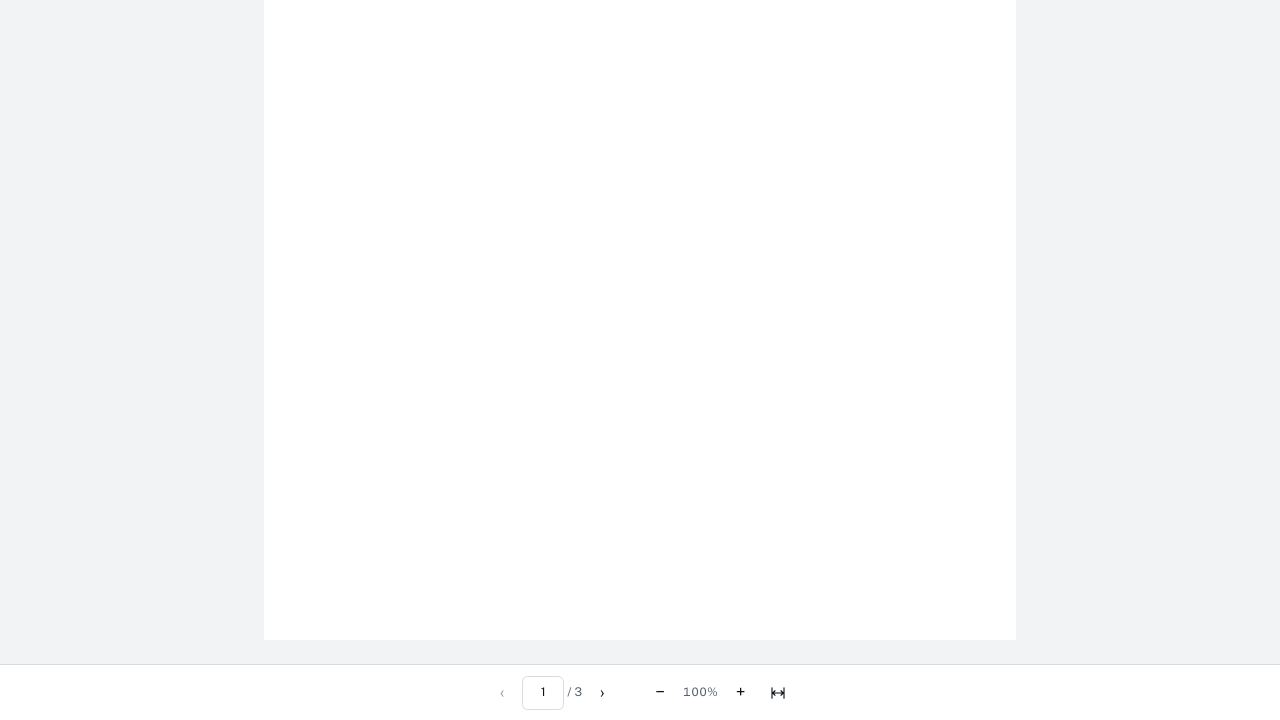
Test case: actual PDF page reader › zooms with a bounded raster and resets to fit width
(page scrolled)
Click the button "+" at x=740, y=693, box top-left (724, 673), bottom-right (758, 712)
(page scrolled)
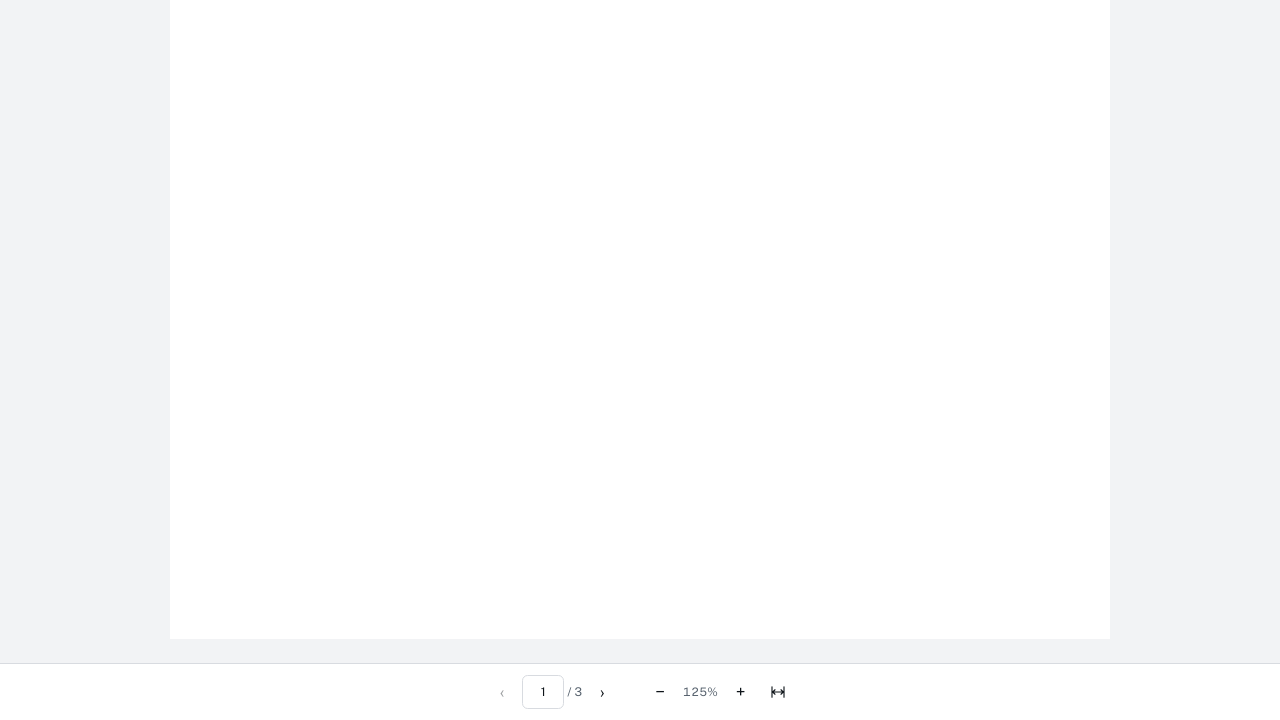
Expected: the text "125%" is shown, top-left (680, 683), bottom-right (720, 702)
Click the button named "Fit width" at x=778, y=692, box top-left (761, 675), bottom-right (795, 709)
(page scrolled)
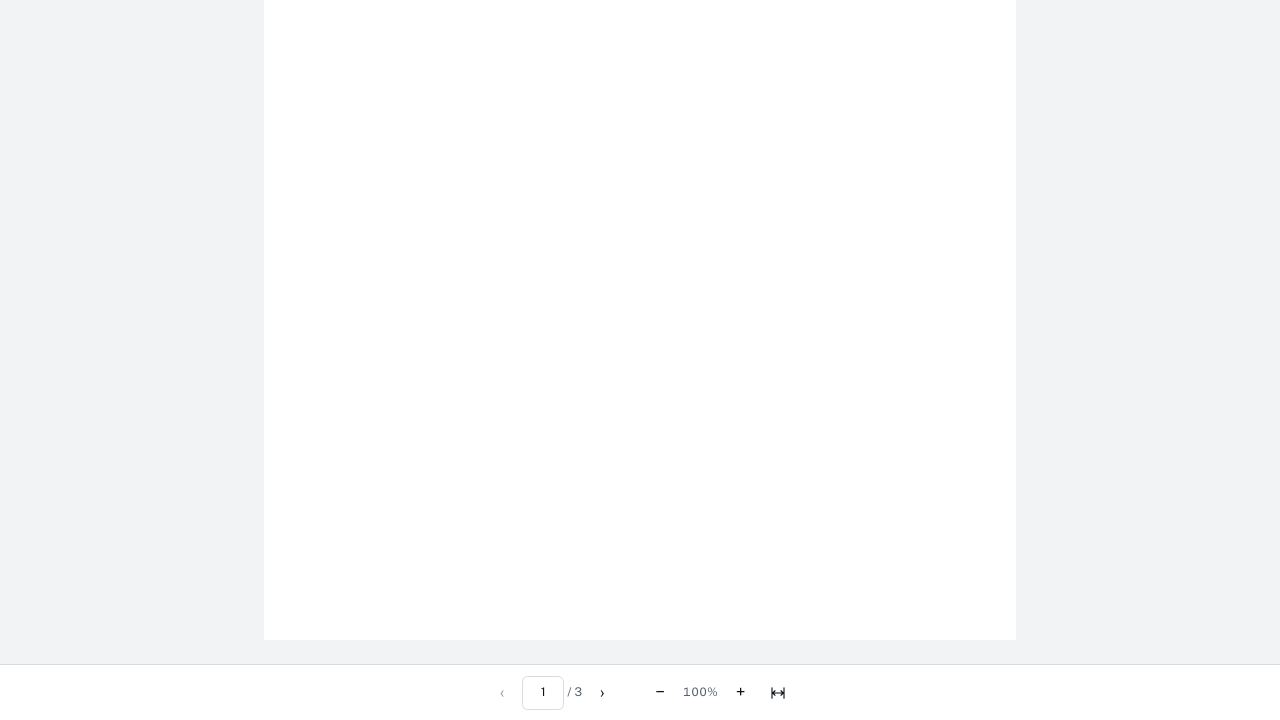
Expected: the text "100%" is shown, top-left (680, 683), bottom-right (720, 702)
